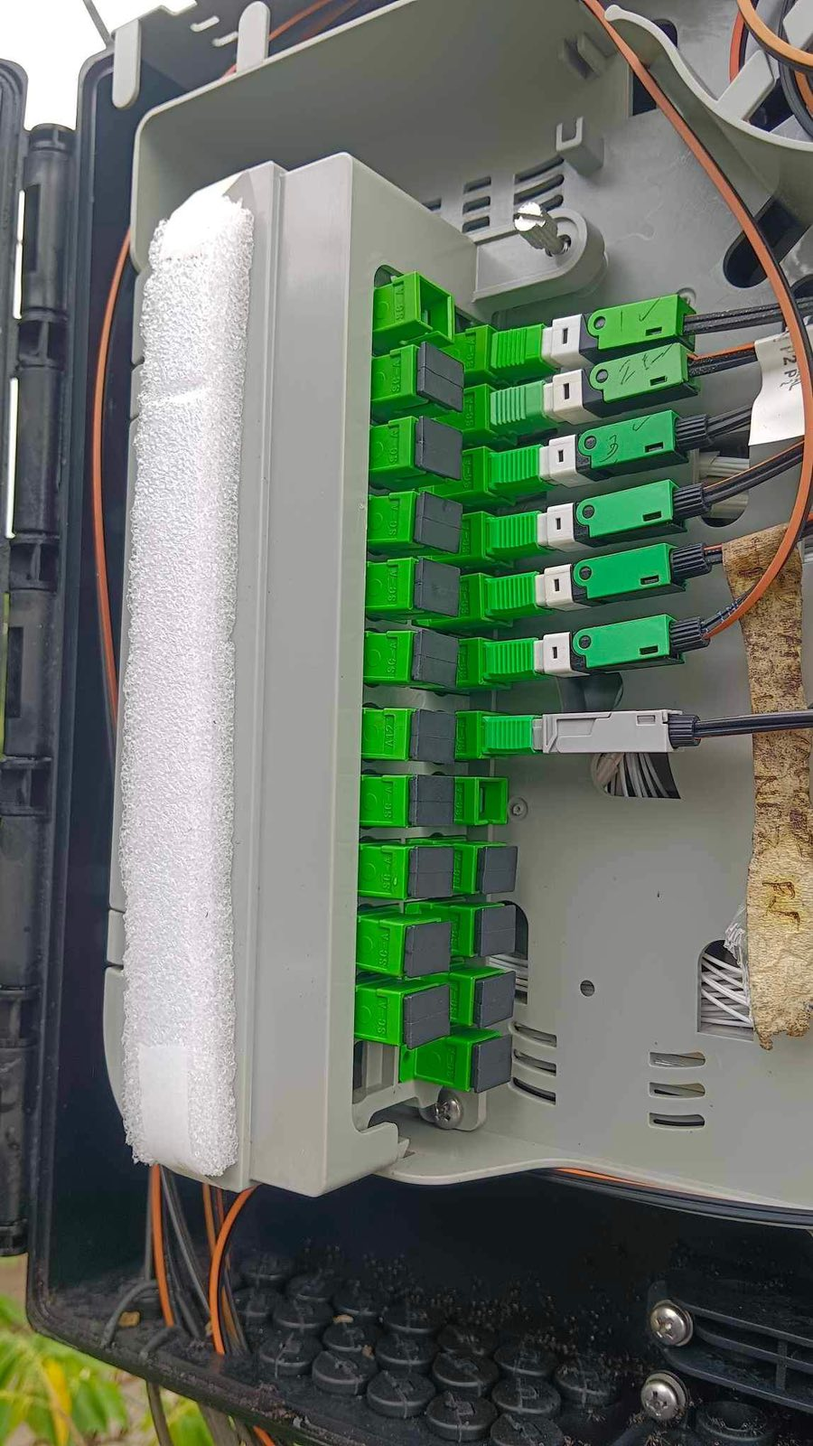no dust cap: (416, 275, 453, 344), (474, 776, 506, 823)
no port: (351, 1036, 396, 1104)
occupied: (492, 339, 701, 440), (486, 472, 708, 565), (491, 405, 713, 496), (485, 603, 719, 688), (485, 536, 713, 623), (492, 293, 697, 378), (486, 706, 703, 760)
vacant: (413, 490, 464, 555), (419, 341, 465, 413), (411, 628, 461, 688), (416, 415, 462, 480), (414, 558, 462, 618), (405, 988, 451, 1049), (410, 710, 458, 764), (403, 922, 449, 976), (473, 971, 517, 1027), (472, 1034, 513, 1093), (412, 774, 456, 826), (410, 847, 454, 897), (476, 846, 519, 894), (477, 906, 515, 955)
